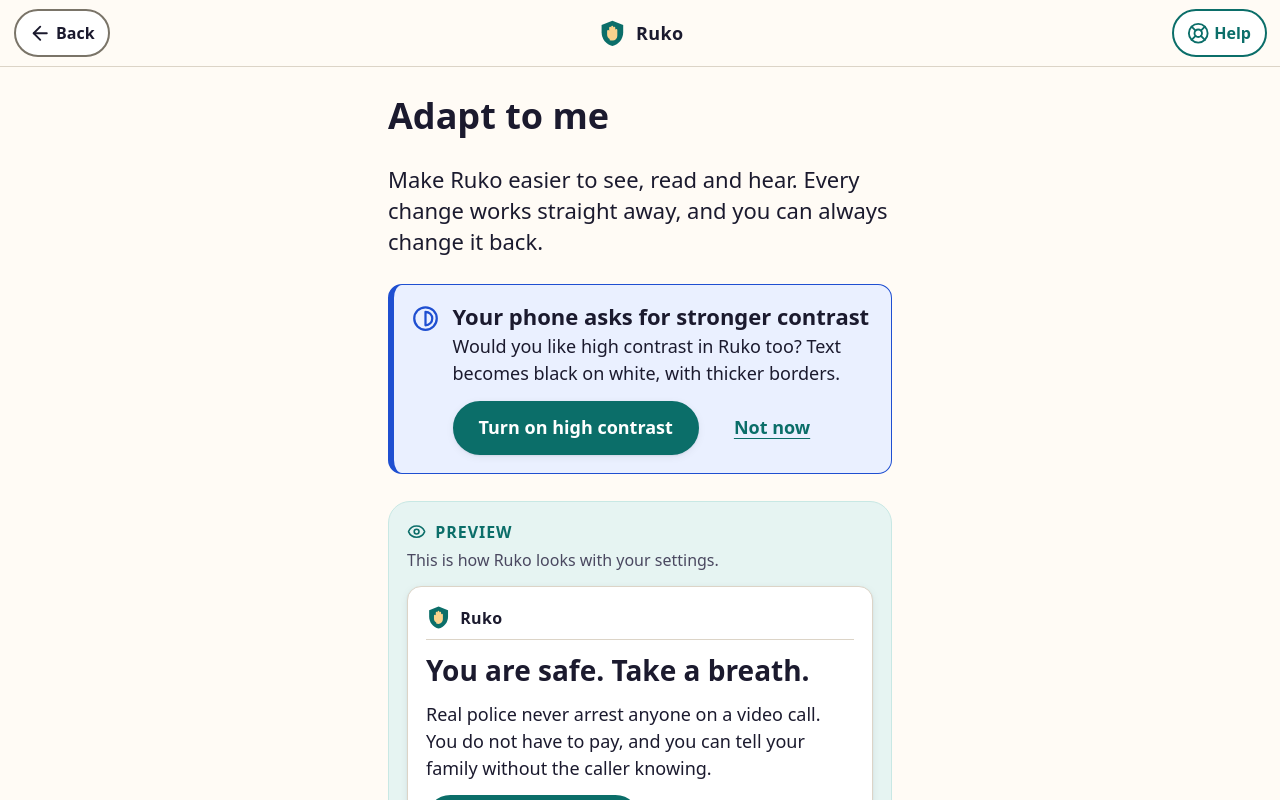
/adapt — Adapt to me › lets the person say "Not now" to a suggestion
The image size is (1280, 800).
Click the button "Not now": x=772, y=428 [708,401,836,455]
(page scrolled)
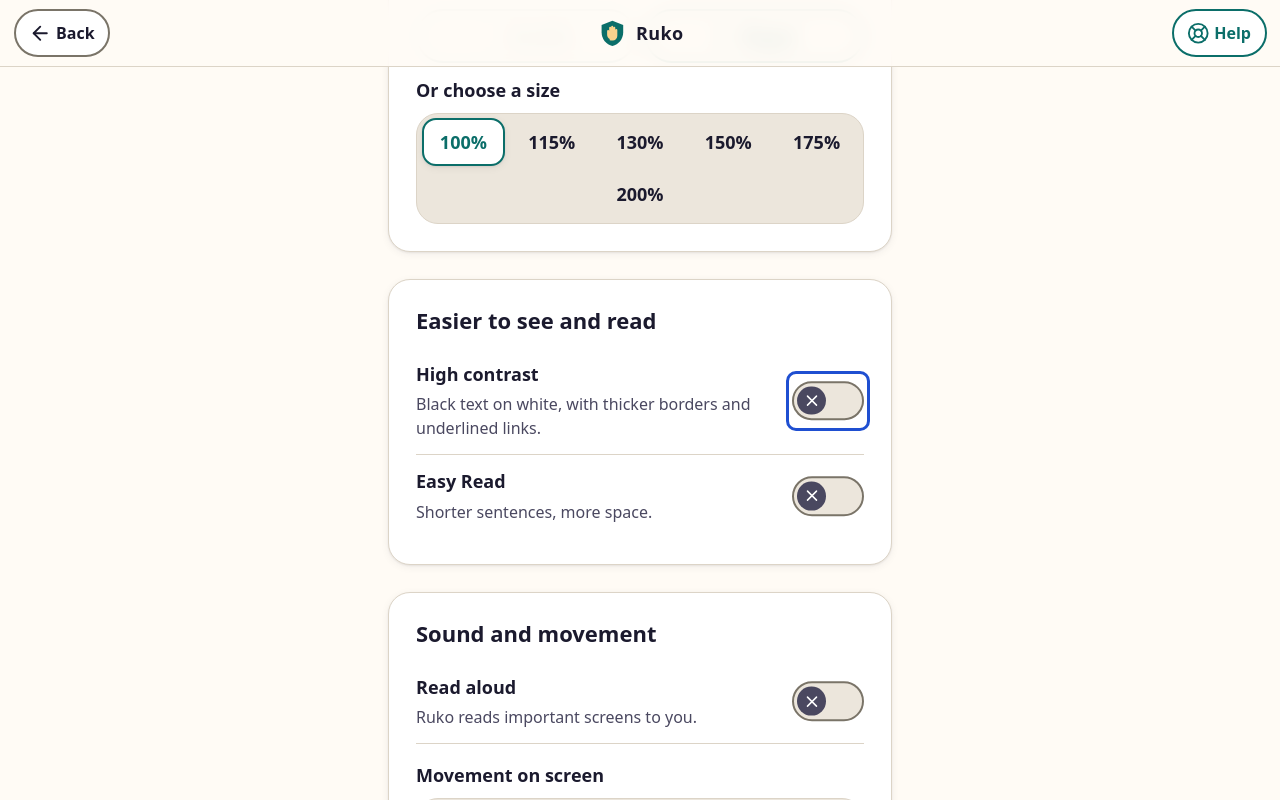
Expected: the text "Your phone asks for stronger contrast" is gone
